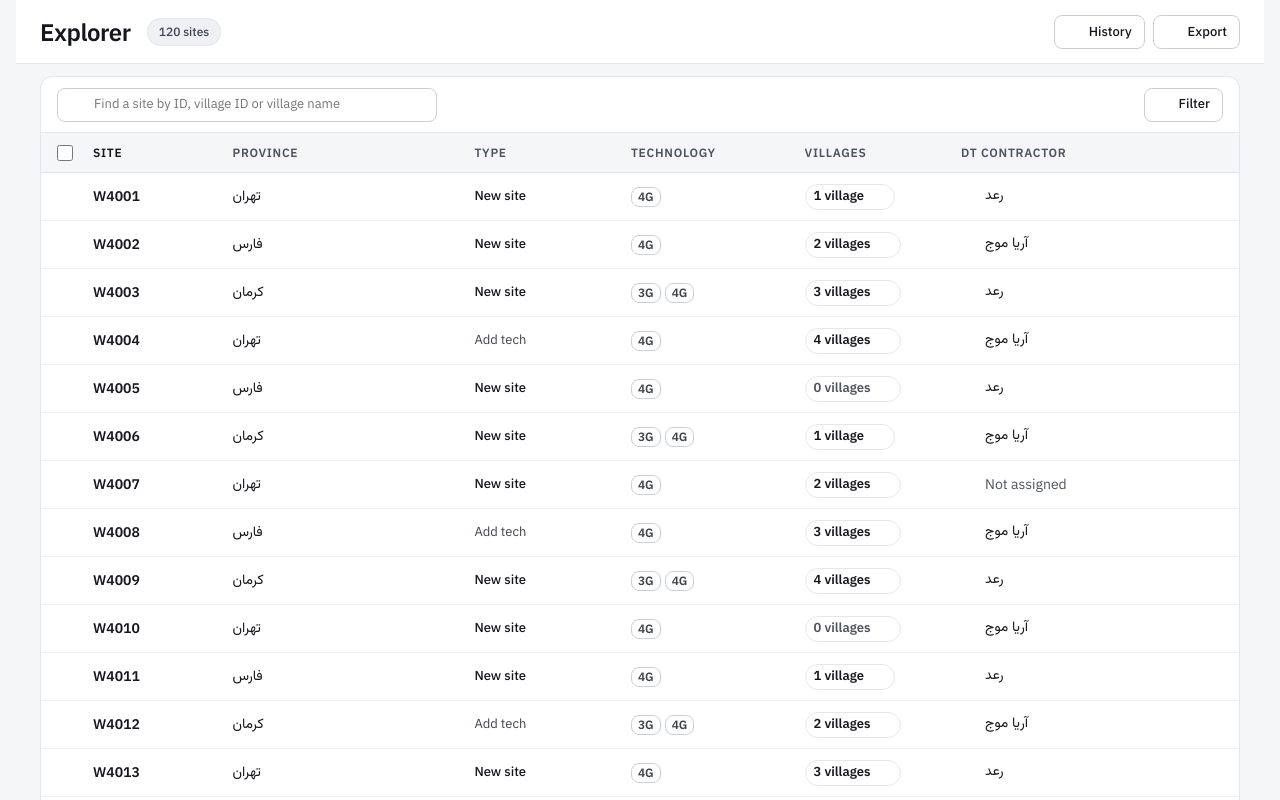
Test: Explorer list: rows › opens one row’s villages at a time, loaded on demand
Click the button with aria-label "Show 2 villages of W4002".
click(853, 244)  # box [804,232,901,258]
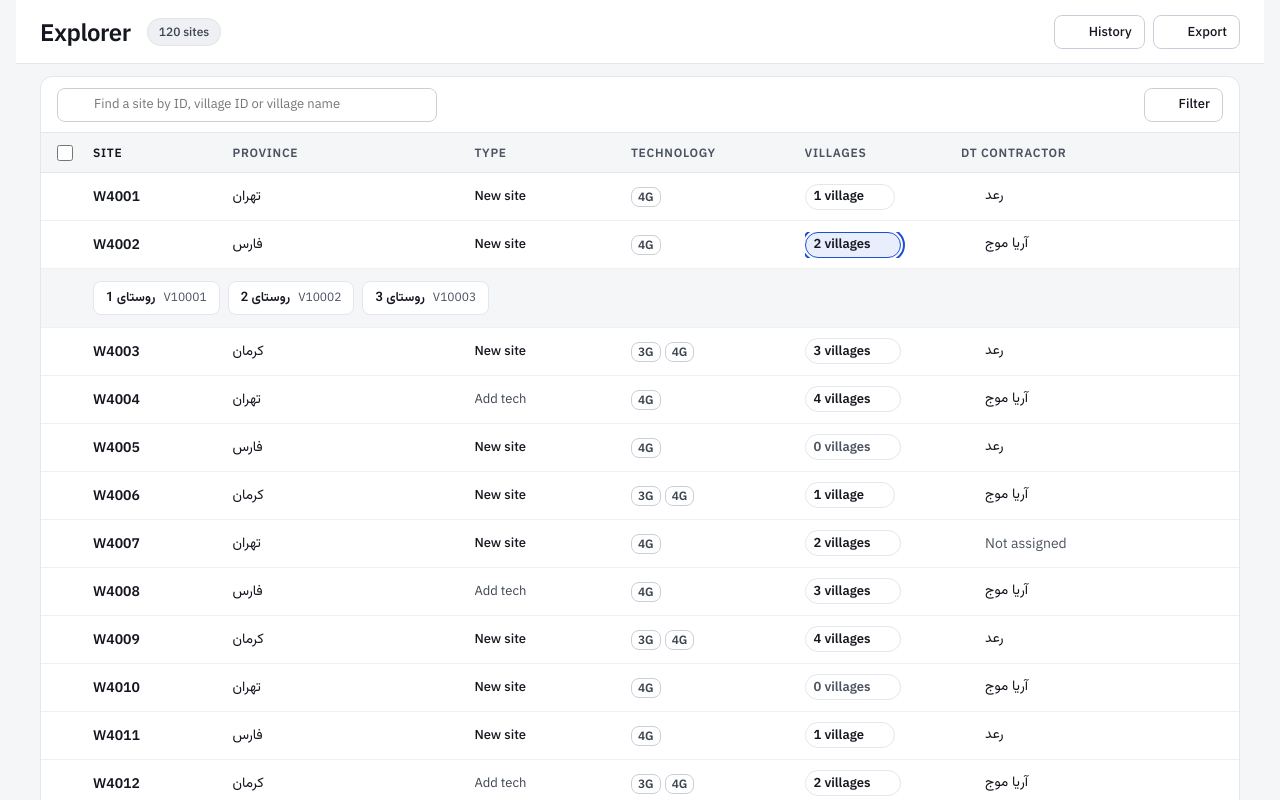
Expected: the button named "Show 2 villages of W4002" is expanded, [804,232,901,258]
Expected: the number of list items is 3, [93,281,220,315]; [228,281,354,315]; [362,281,489,315]
Click the button with aria-label "villages of W4003".
click(853, 351)  # box [804,338,901,364]
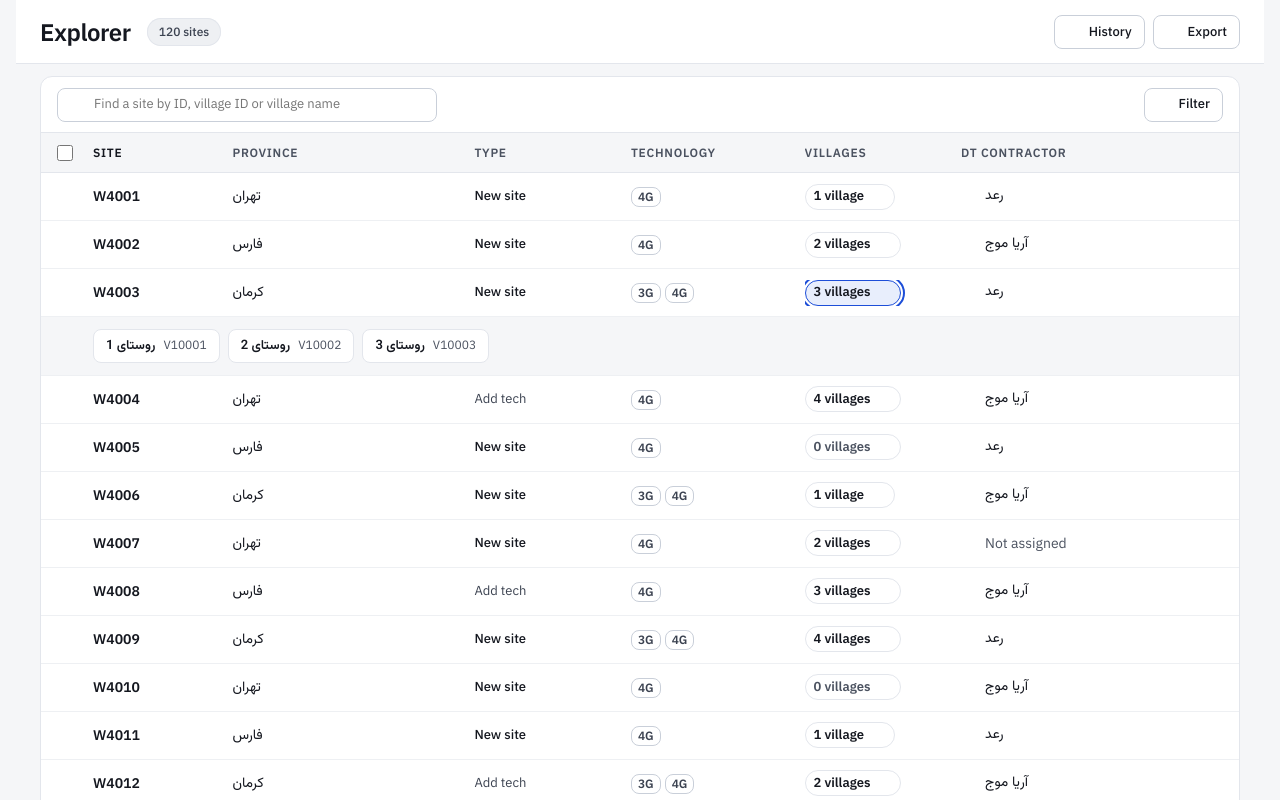
Expected: the list named "Target villages of W4003" is shown, [93,329,489,363]
